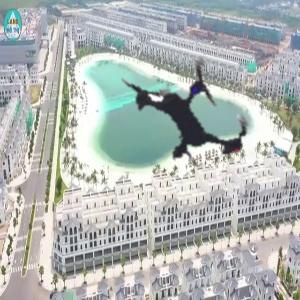drone: (89, 10, 295, 216)
